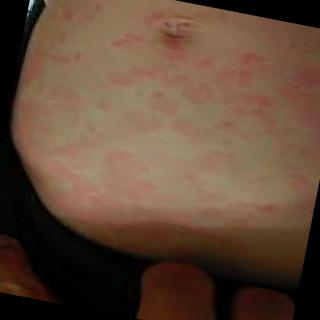urticaria: (138, 11, 205, 54), (108, 147, 137, 207), (238, 46, 269, 102), (295, 66, 317, 129), (30, 52, 91, 65)
